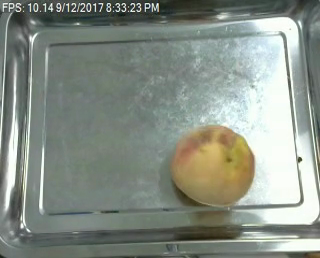Peach: (170, 124, 255, 207)
